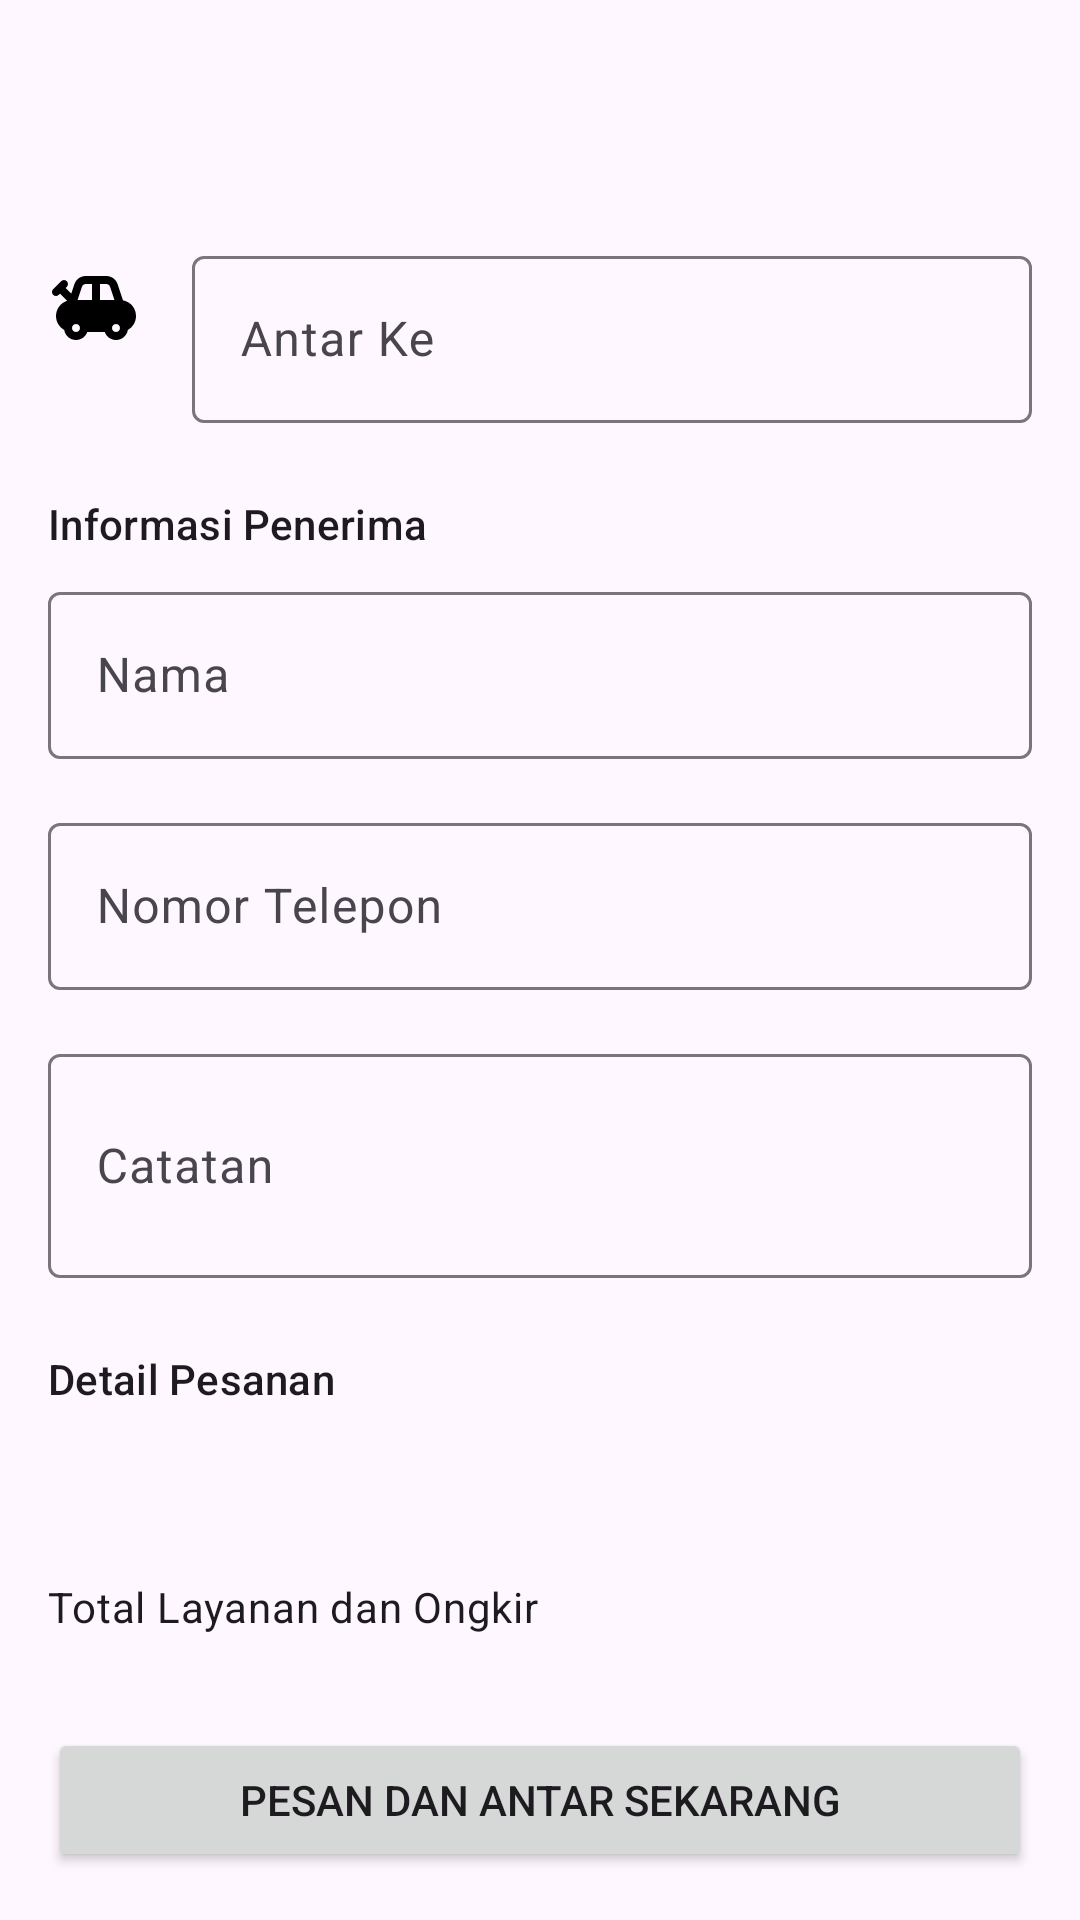

Locate icon controls on the screen. Image size 1080px x 1920px, boxes as bbox=(x1, y1, x2, y2).
deliver: bbox=(52, 276, 136, 340)
